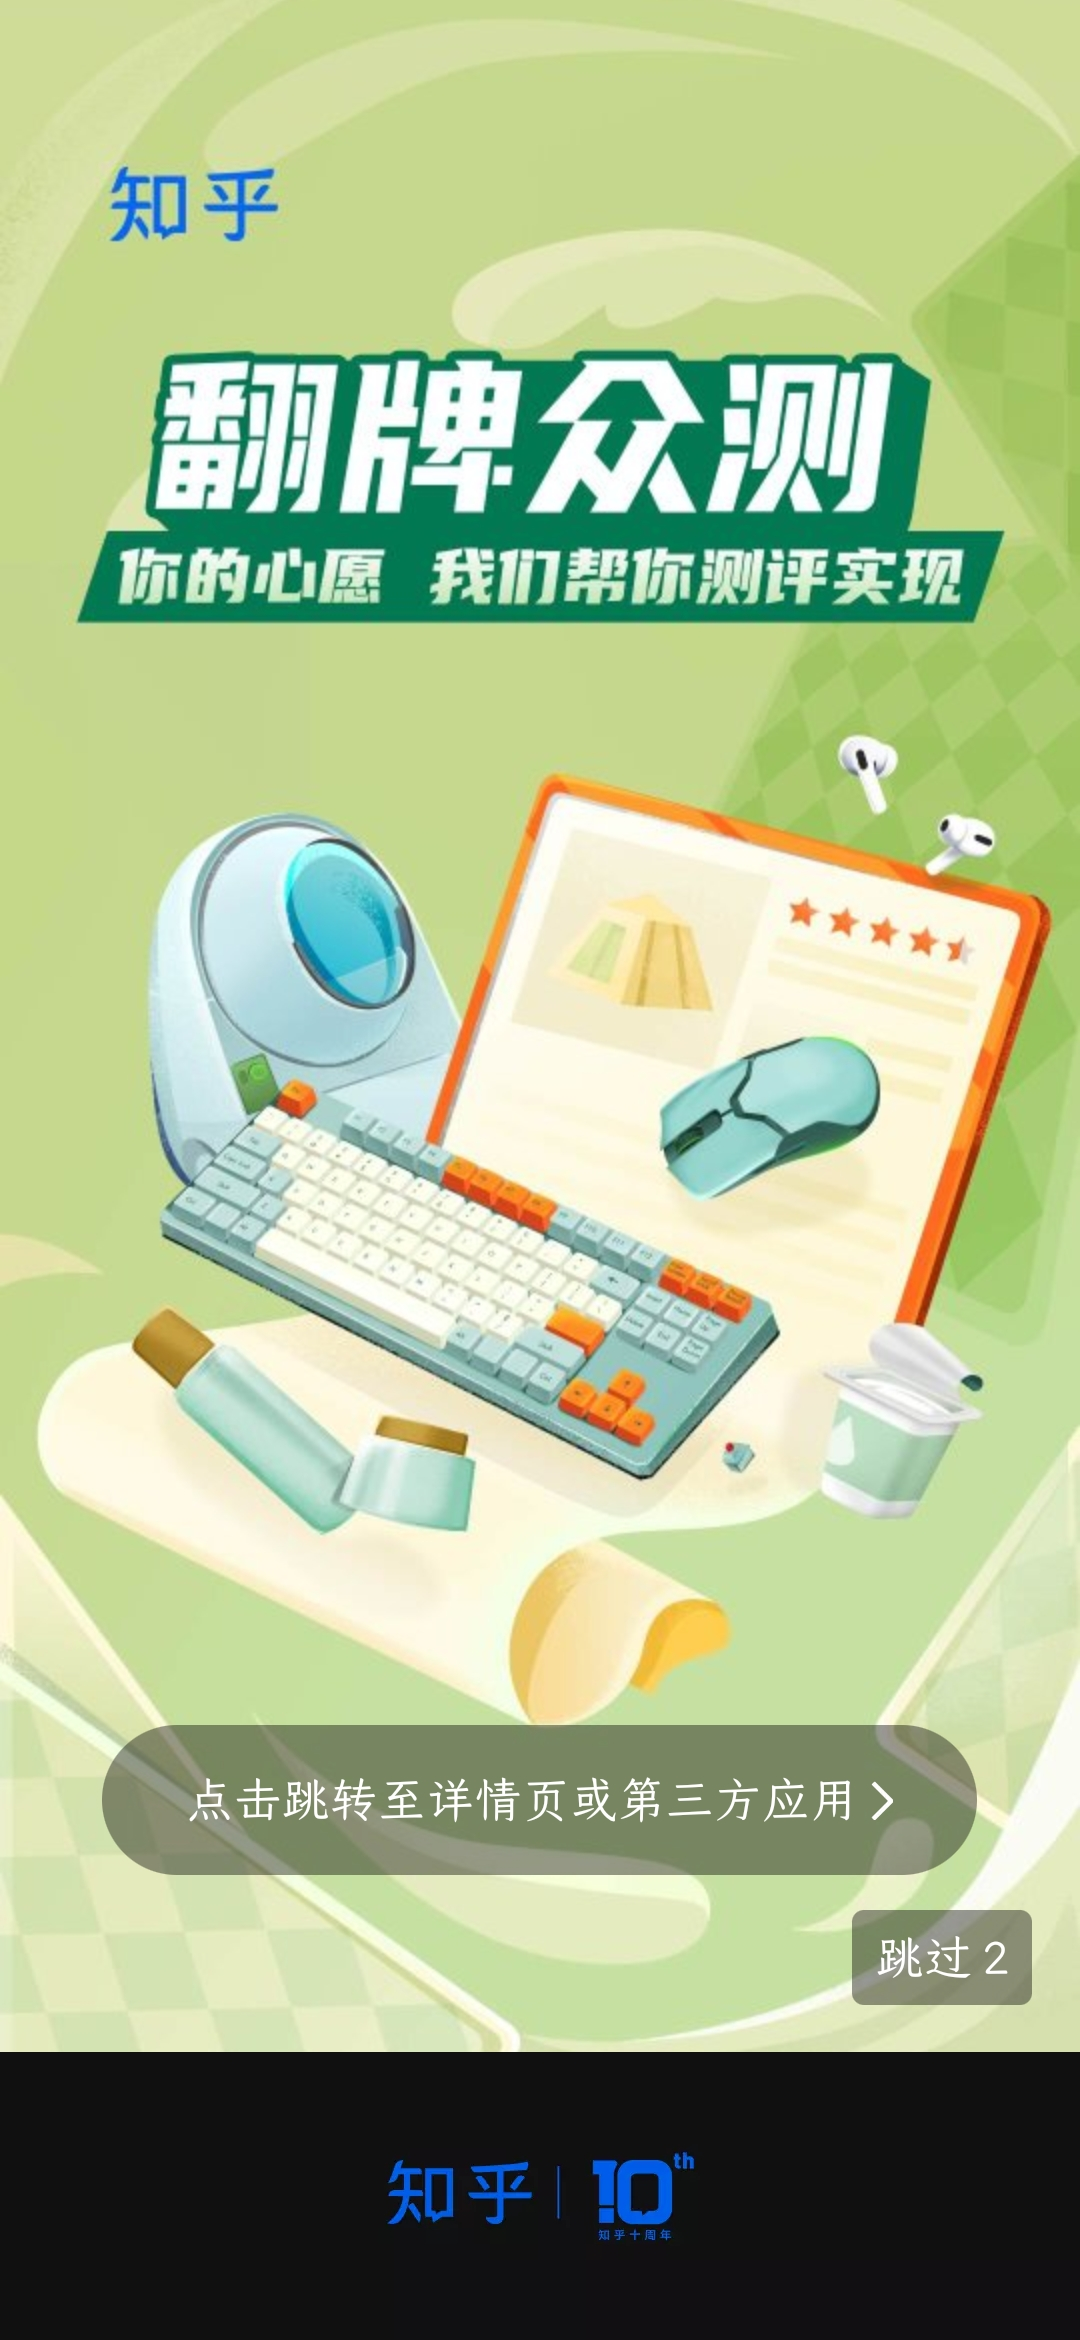skip: (852, 1912, 1038, 2006)
